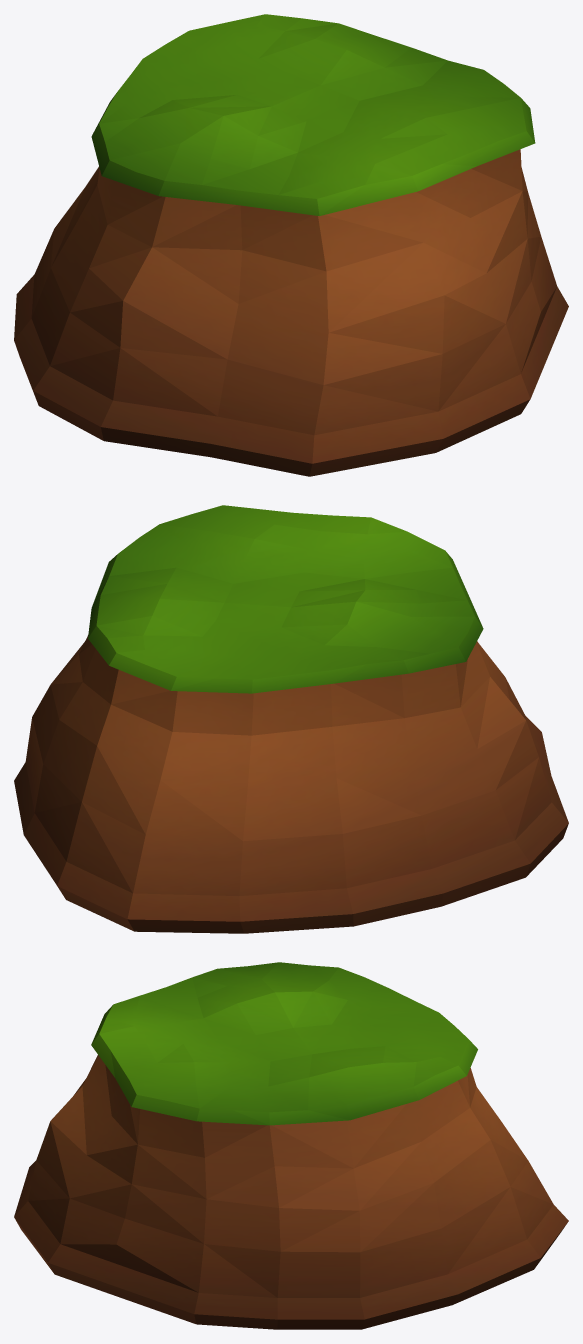
The model's file is hill_002.fbx.
The picture shows the model from 3 angles, top to bottom: view 1: azimuth 30°, elevation 25°; view 2: azimuth 150°, elevation 25°; view 3: azimuth 270°, elevation 25°; orthographic projection. The views are drawn at different scales.
Visible parts, largest first — view 1: hill.002; view 2: hill.002; view 3: hill.002.
Boxes of the visible parts, <box> form: hill.002: <box>14,14,568,476</box>; hill.002: <box>14,505,568,933</box>; hill.002: <box>14,962,568,1329</box>.
Size of the model in its own units: 1701 by 798 by 1888.
